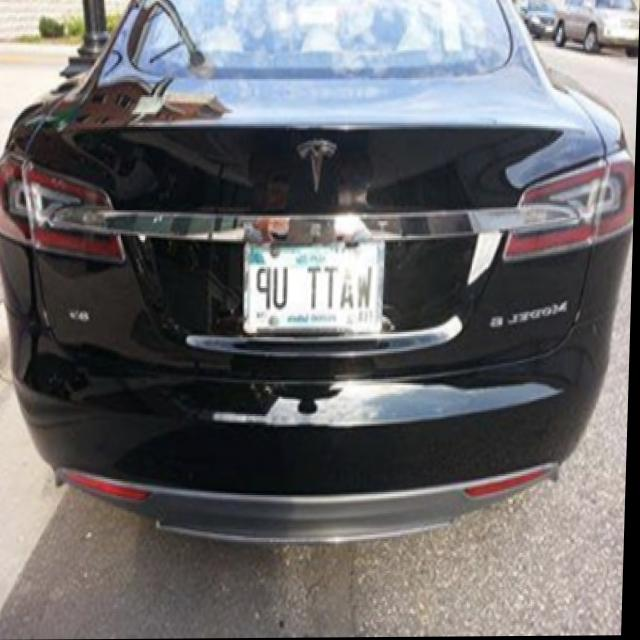licence: (245, 230, 387, 336)
